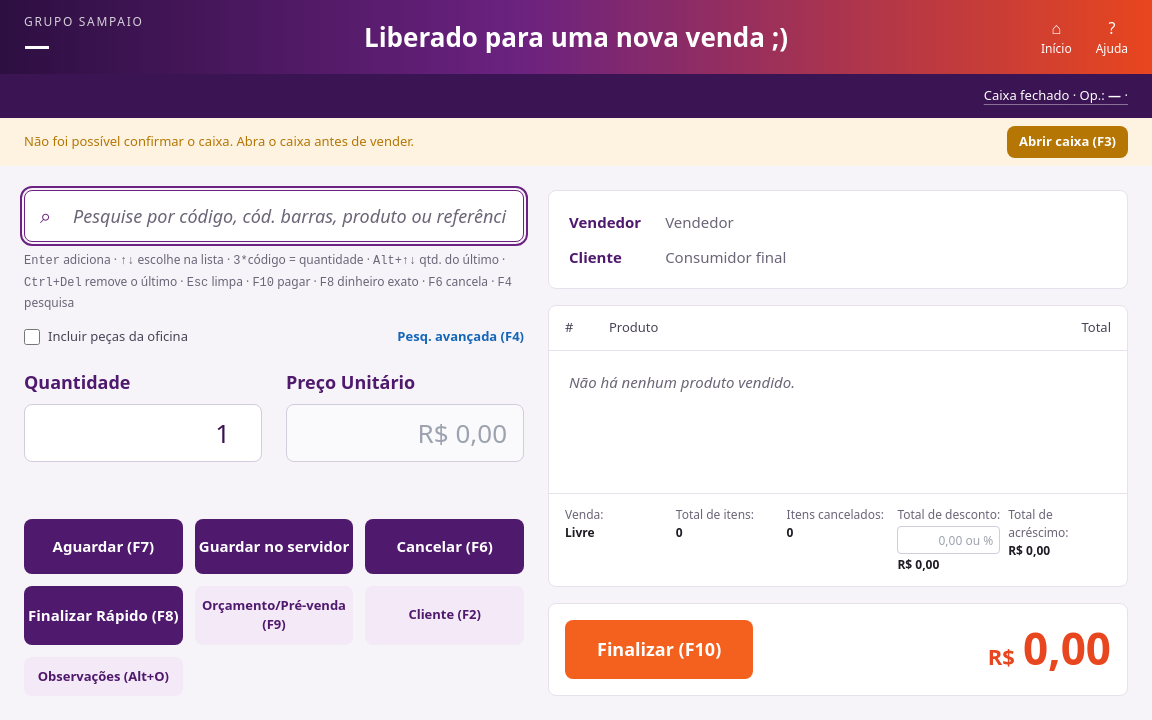
Test case: a espera que cruza terminais (GAP-V59) › o F7 continua LOCAL e instantâneo — não fala com o servidor
Type "7890000001111" into the field labelled "Pesquise por código, cód. barras, produto ou referência". click: (274, 216)
box: [24,190,524,242]
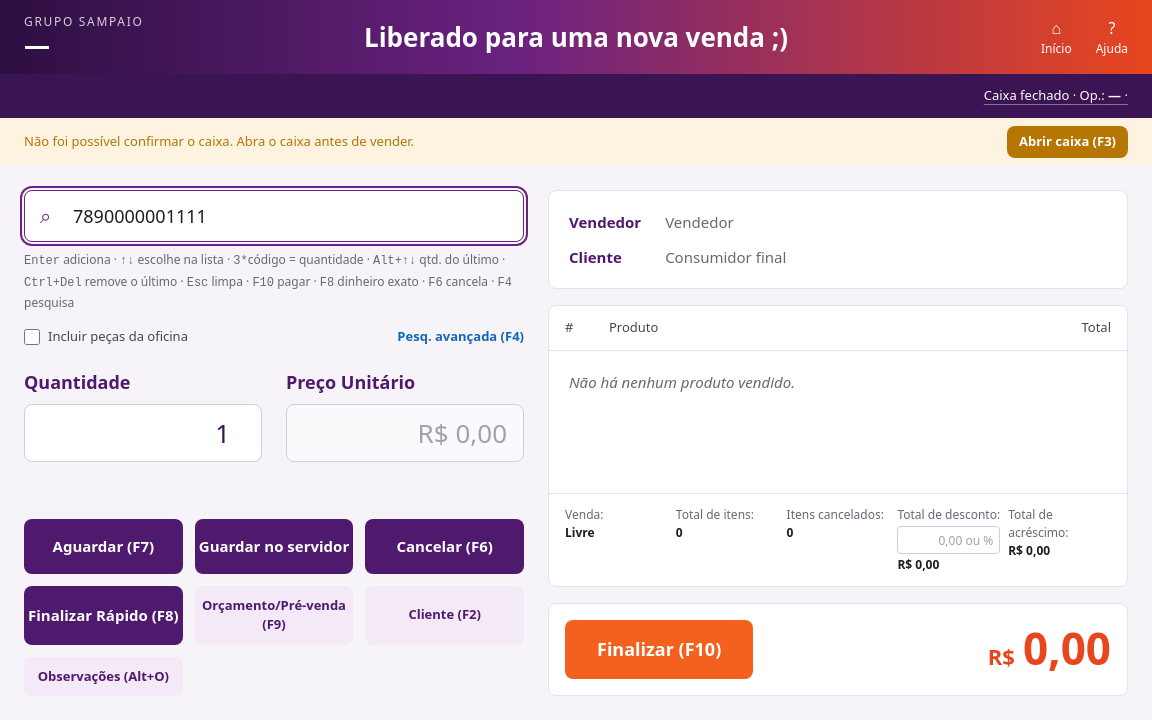
Press Enter in the field named "Pesquise por código", box [24,190,524,242]
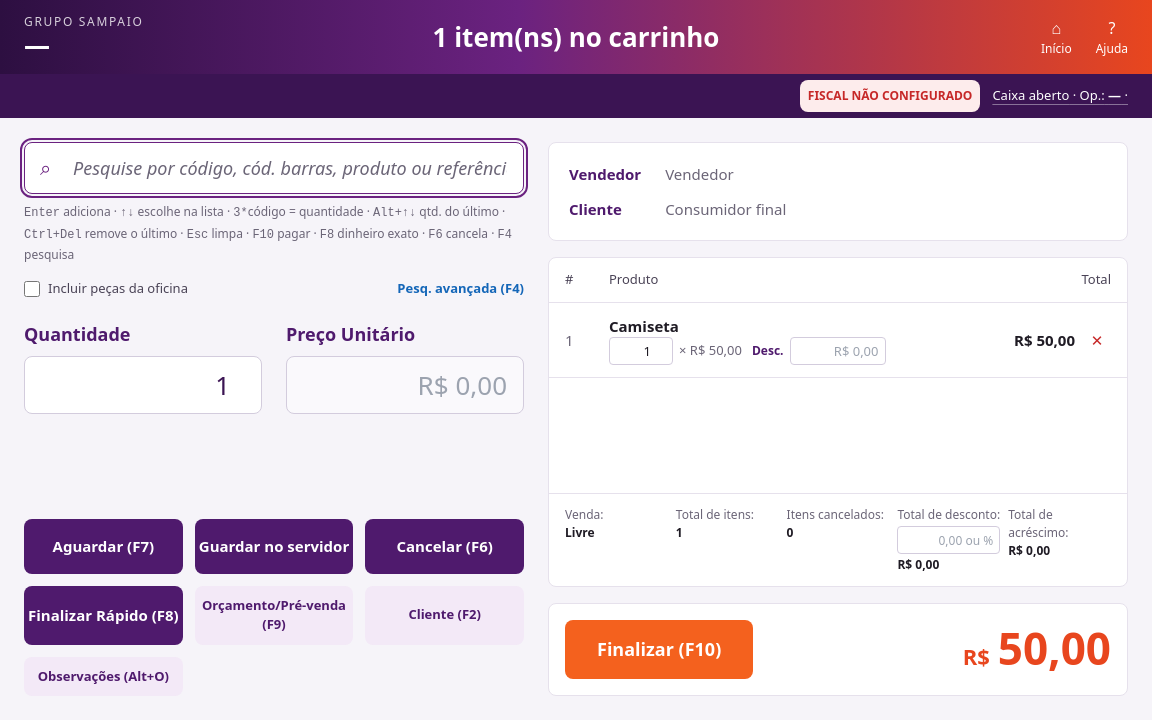
Check: the button named "Remover " is shown, box [1083,324,1111,356]
Click the button "Aguardar (F7)". click: (103, 546)
box: [24,519,183,574]
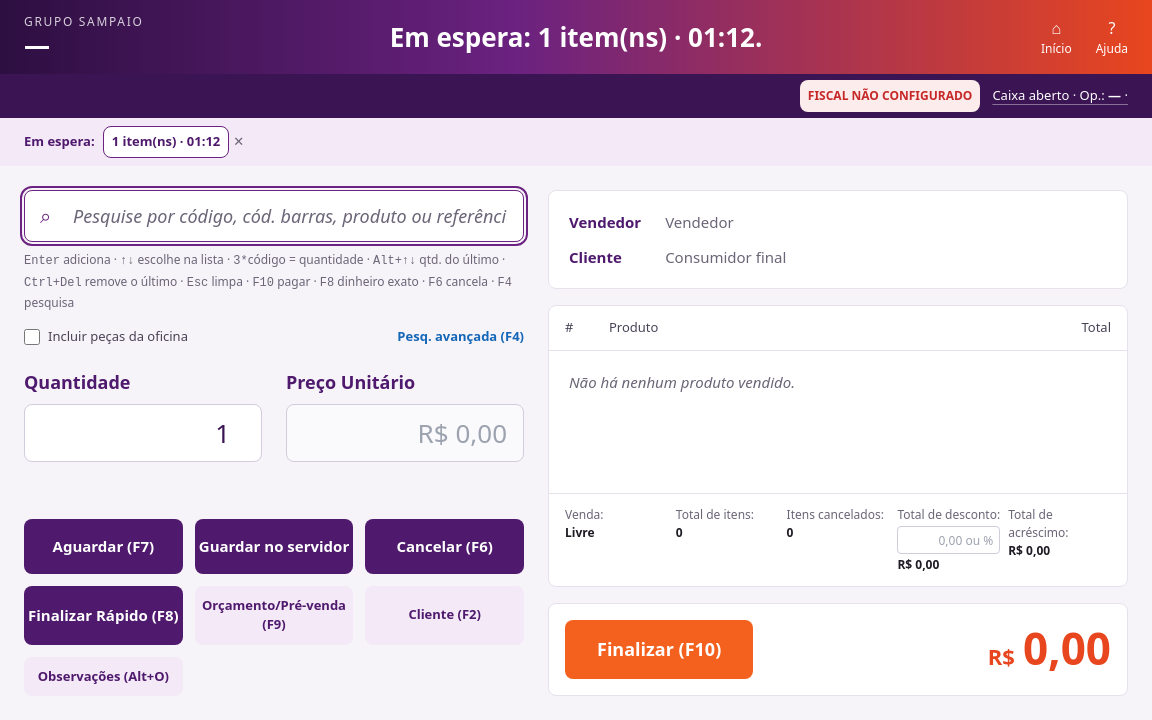
Check: the element with test id "pdv-esperas" is shown, box [0,118,1151,166]
